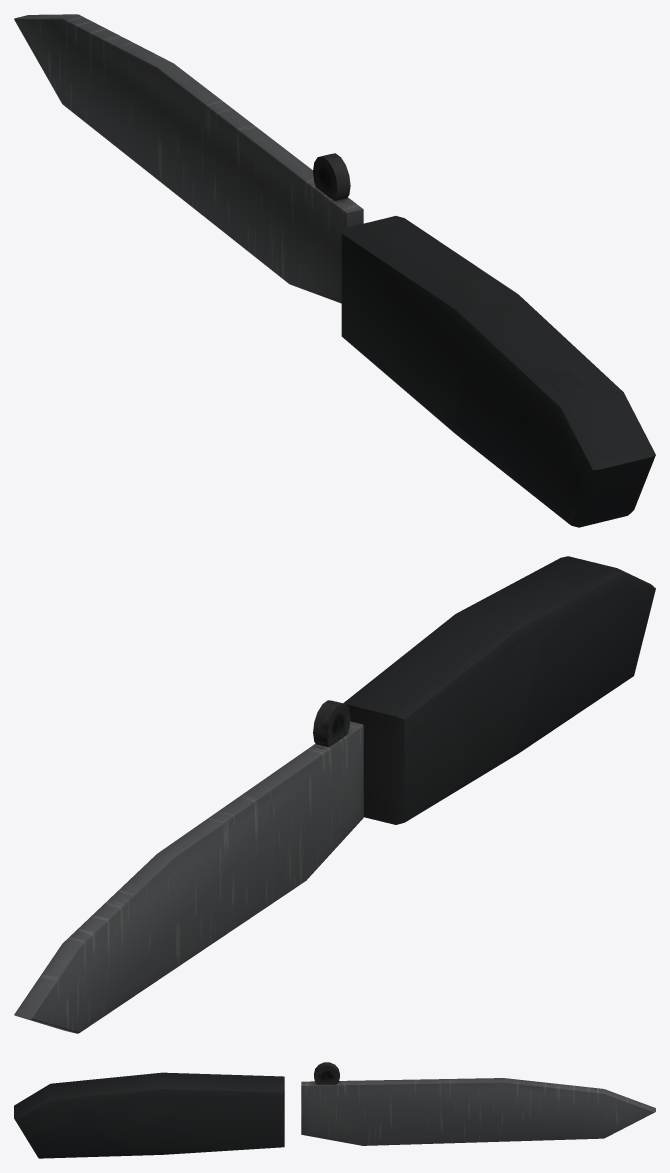
The model's file is knife_flip.glb.
3 renders of one model, top to bottom at view 1: azimuth 30°, elevation 25°; view 2: azimuth 150°, elevation 25°; view 3: azimuth 270°, elevation 25°, orthographic. The views are drawn at different scales.
Parts seen in each view (by area): view 1: body_furniture, body_receiver; view 2: body_furniture, body_receiver; view 3: body_receiver, body_furniture.
Part boxes in pixels (<box>): body_furniture: <box>341,216,655,527</box>; body_receiver: <box>14,14,363,303</box>; body_furniture: <box>343,556,655,824</box>; body_receiver: <box>14,700,363,1033</box>; body_receiver: <box>301,1062,655,1145</box>; body_furniture: <box>14,1072,284,1158</box>.
Bounding box in the file's own units: 0.021 × 0.0484 × 0.32.
Materials: 2 (2 with a texture image).
